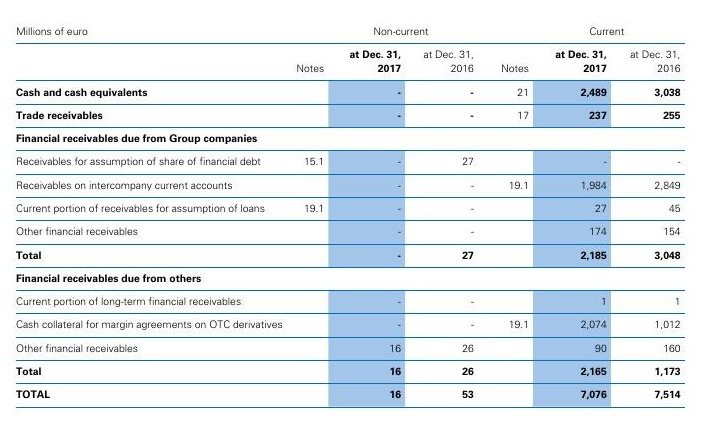table: (0, 0, 702, 426)
